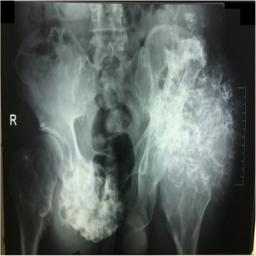cancer: (145, 25, 234, 200), (57, 157, 124, 243)
